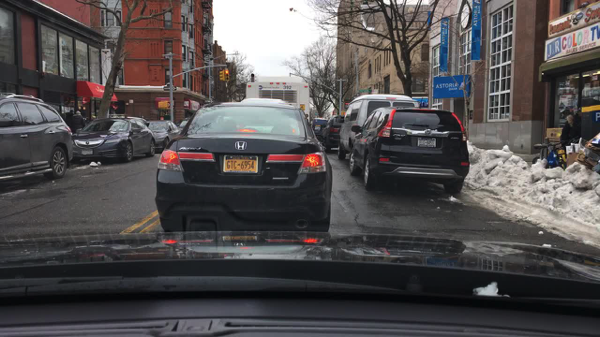bike: (532, 141, 571, 170)
bus: (246, 74, 311, 122)
car: (154, 102, 332, 231), (349, 105, 470, 193), (0, 92, 74, 189), (338, 93, 417, 159), (71, 116, 156, 162), (143, 119, 180, 153), (321, 115, 345, 151), (74, 110, 85, 134), (177, 118, 189, 135), (66, 110, 72, 129)
person: (559, 116, 580, 142)
traffic light: (158, 101, 169, 108), (224, 69, 229, 82), (220, 70, 223, 81)
traffic sign: (163, 86, 176, 90), (359, 89, 372, 93)
truck: (312, 118, 326, 138)
